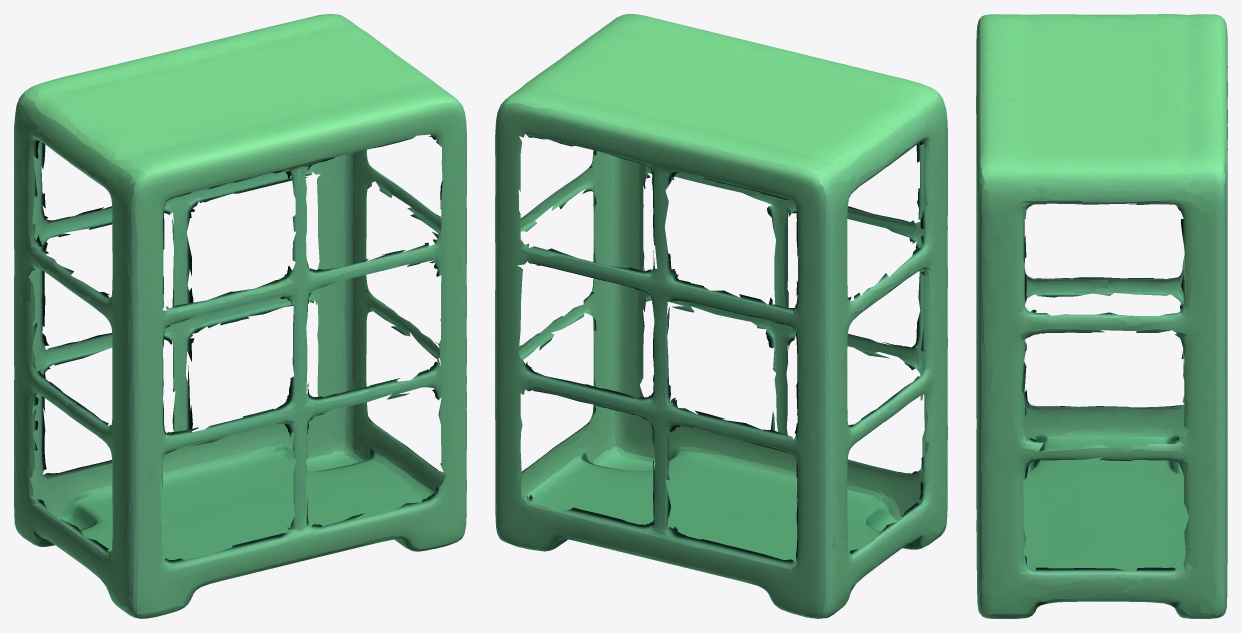
Rendered from body.glb.
The picture shows the model from 3 angles, left to right: view 1: azimuth 30°, elevation 25°; view 2: azimuth 150°, elevation 25°; view 3: azimuth 270°, elevation 25°; orthographic projection.
Parts seen in each view (by area): view 1: geometry_0; view 2: geometry_0; view 3: geometry_0.
Part boxes in pixels (<box>): geometry_0: <box>14,14,466,618</box>; geometry_0: <box>495,14,947,618</box>; geometry_0: <box>976,14,1227,618</box>.
Size of the model in its own units: 0.2527 by 0.32 by 0.1602.
1 material, 1 textured.
